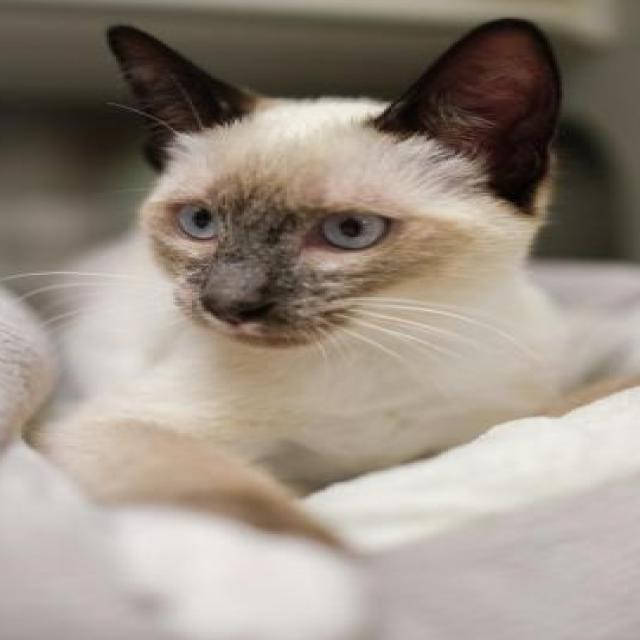Siamese: (10, 10, 581, 482)
